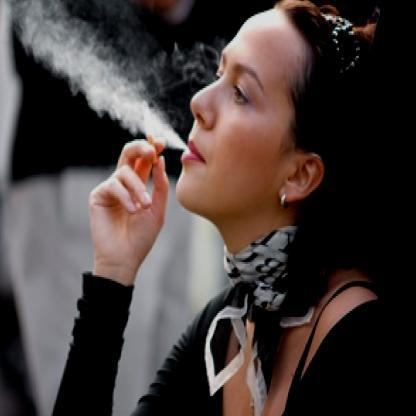person: (163, 0, 407, 415)
smoke: (9, 0, 112, 83), (93, 72, 184, 152)
